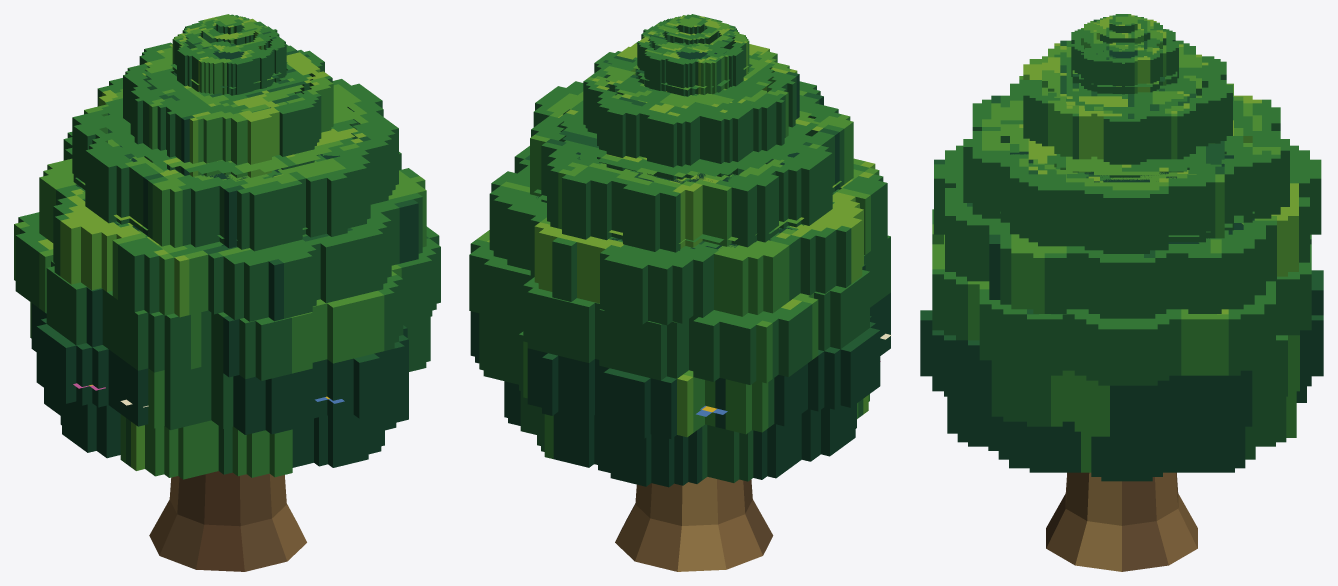
The model's file is SM_Pixel_Tree_B.fbx.
3 views of the same model, side by side, from view 1: azimuth 30°, elevation 25°; view 2: azimuth 150°, elevation 25°; view 3: azimuth 270°, elevation 25° (orthographic).
Visible parts, largest first — view 1: SM_Pixel_Tree_B; view 2: SM_Pixel_Tree_B; view 3: SM_Pixel_Tree_B.
Part boxes in pixels (left/top/right/bottom): SM_Pixel_Tree_B: left=14, top=14, right=440, bottom=571; SM_Pixel_Tree_B: left=469, top=14, right=891, bottom=571; SM_Pixel_Tree_B: left=920, top=14, right=1323, bottom=571.
Bounding box in the file's own units: 302 × 293 × 416.
1 material, 1 textured.
